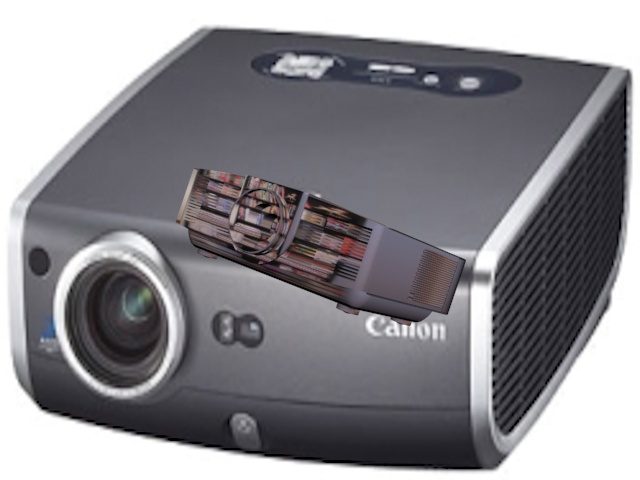projector: (169, 160, 472, 337)
